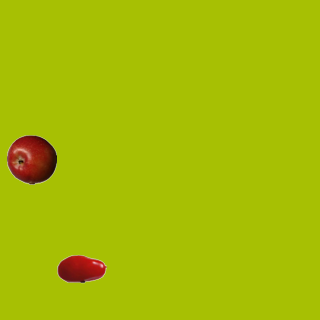Apple Braeburn: (6, 134, 56, 184)
Tomato 2: (56, 243, 106, 293)
